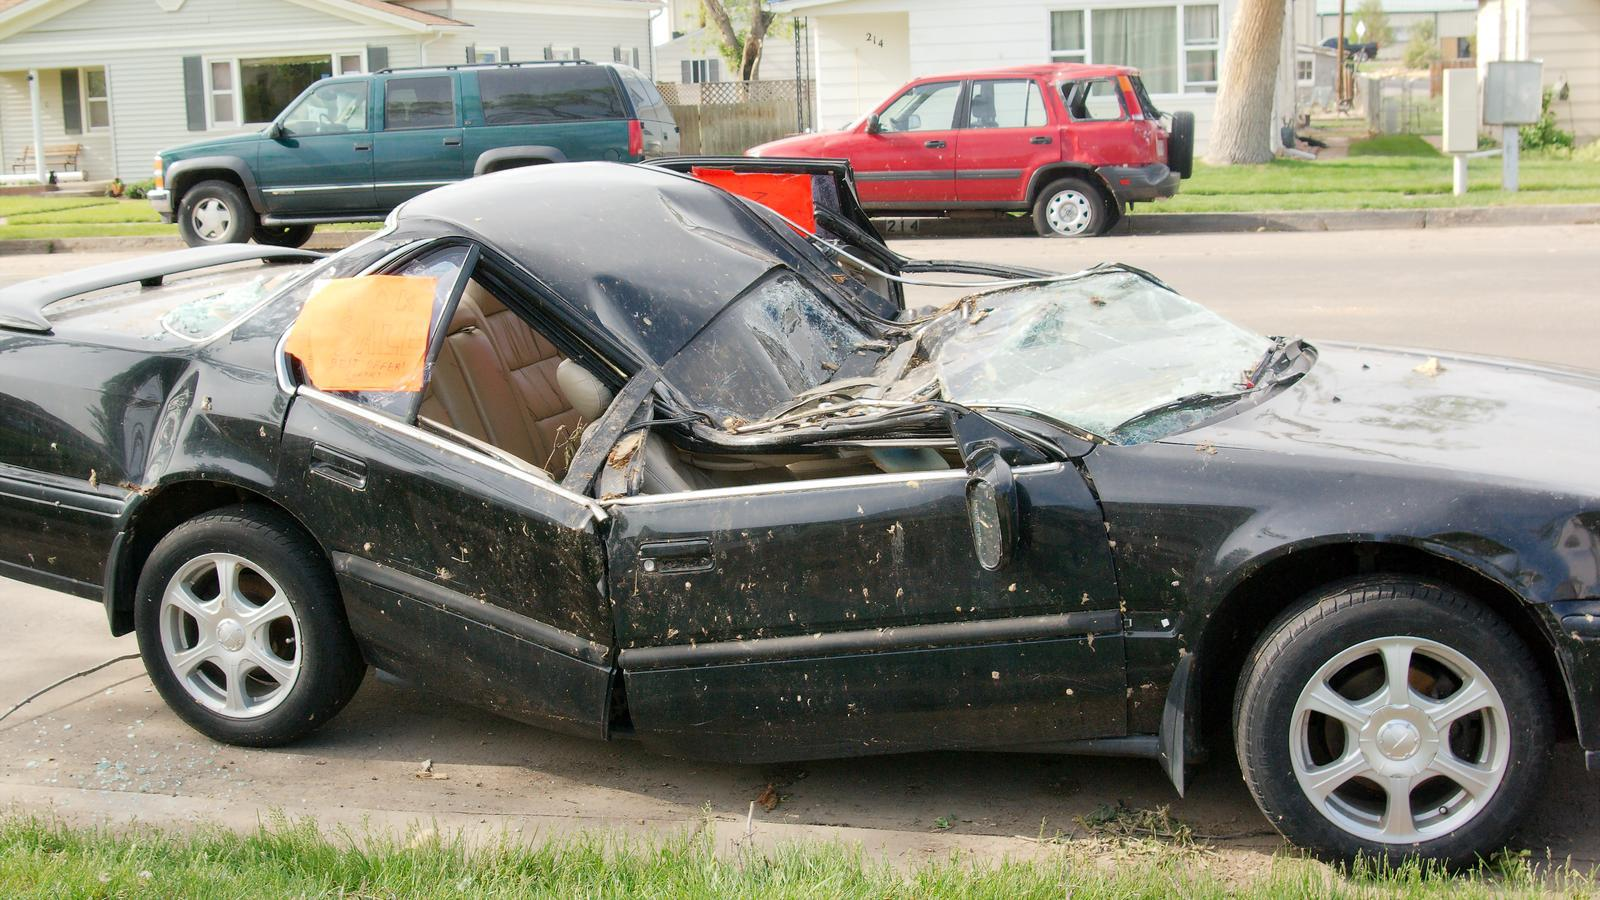Front-Windscreen-Damage: (958, 260, 1252, 416)
doorouter-dent: (613, 485, 1059, 749)
quaterpanel-dent: (16, 335, 278, 480)
roof-dent: (476, 178, 962, 435)
